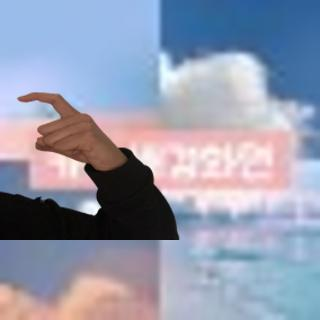WHY: (13, 87, 125, 170)
